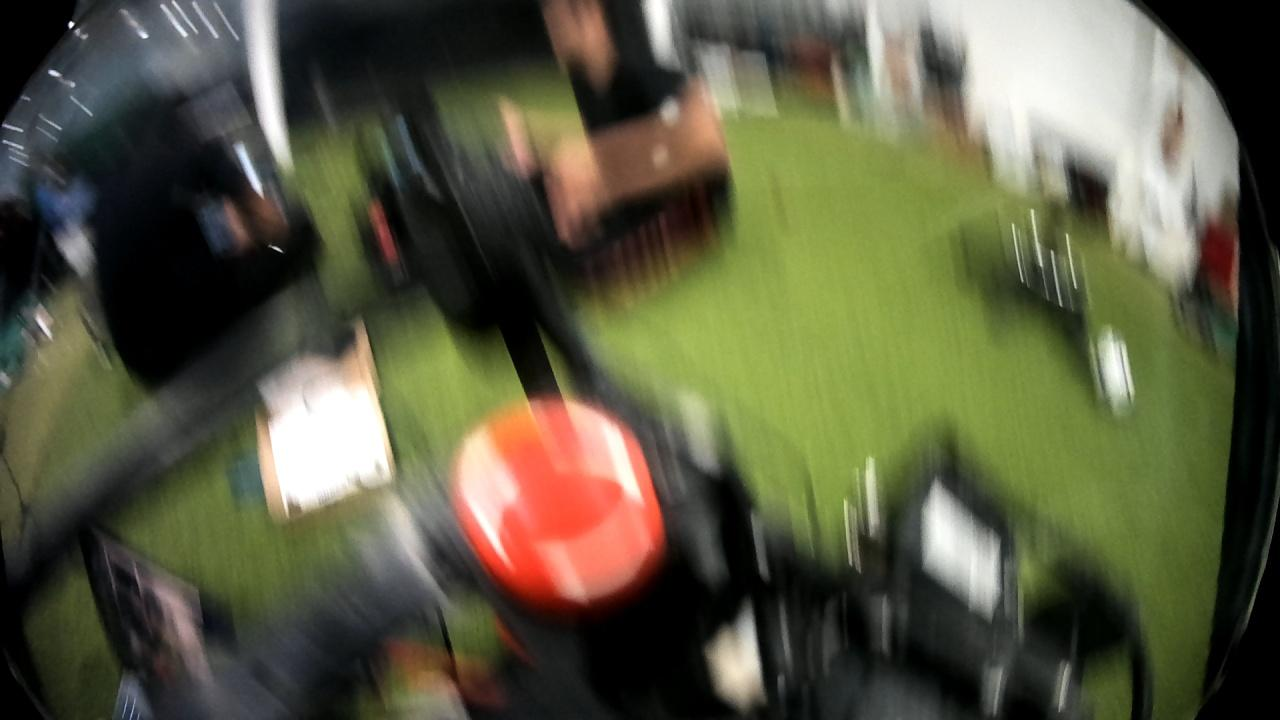ball: (1084, 324, 1142, 421)
